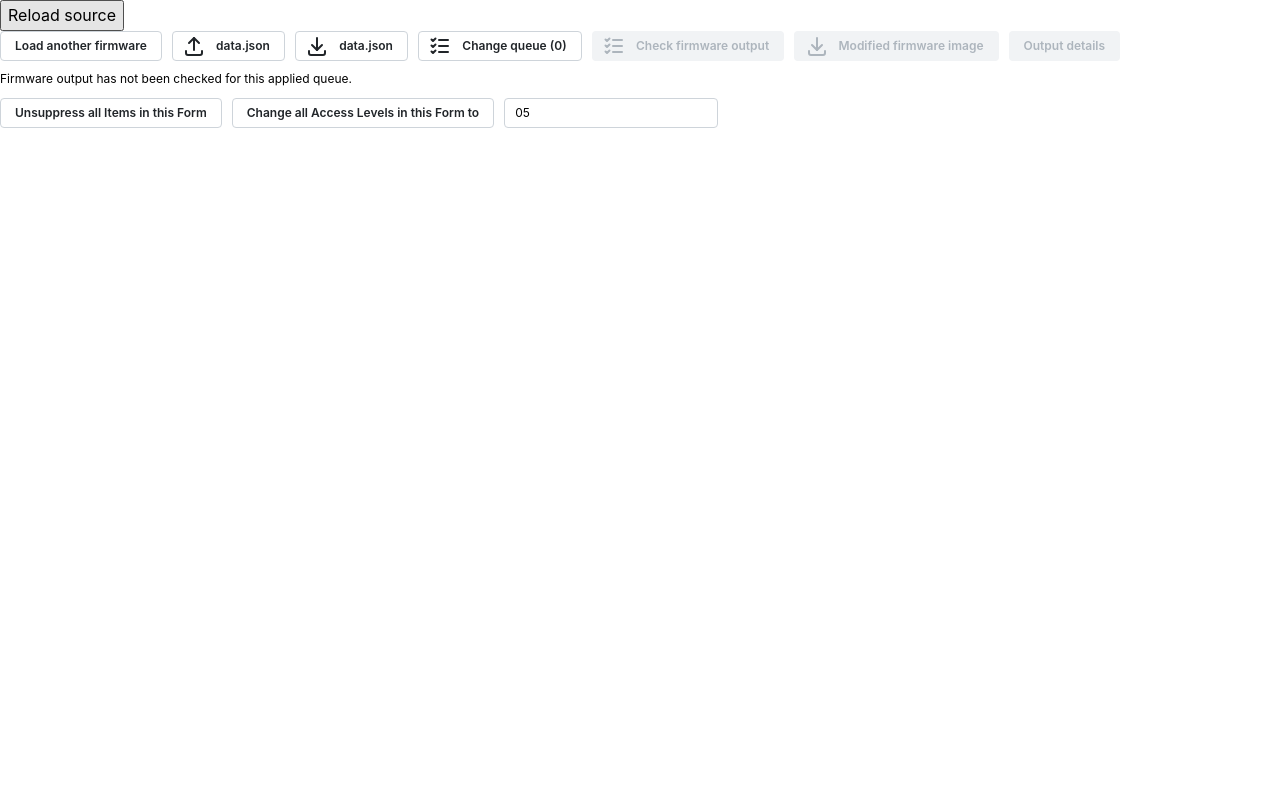
Test: AMI complete-image user flow (synthetic integration) › shows allocation failure without downloading and permits a successful retry
Step 1. Click the button "Unsuppress all Items in this Form" → (111, 113), box [0,98,222,128]
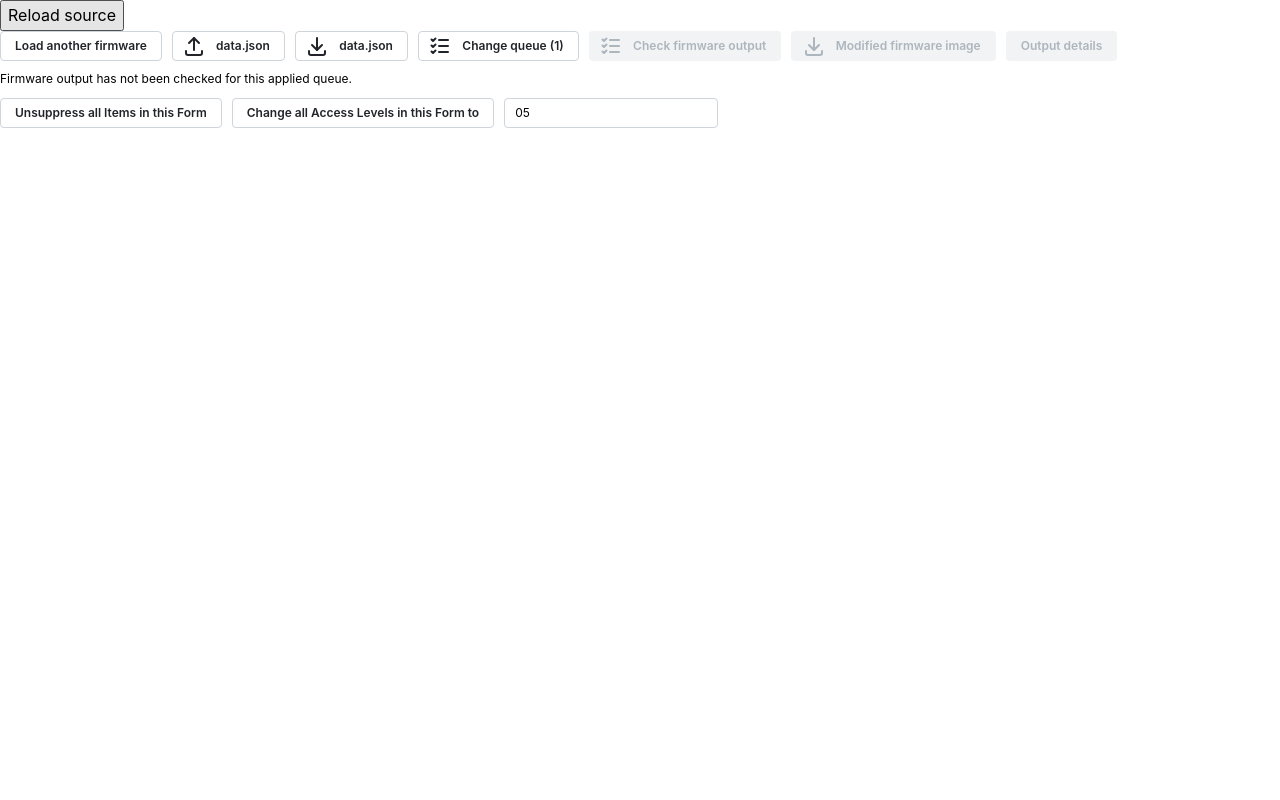
Check: the button "Check firmware output" is disabled, box [589,31,781,61]
Step 2. Click the button "Change queue (1)" → (498, 46), box [418,31,579,61]
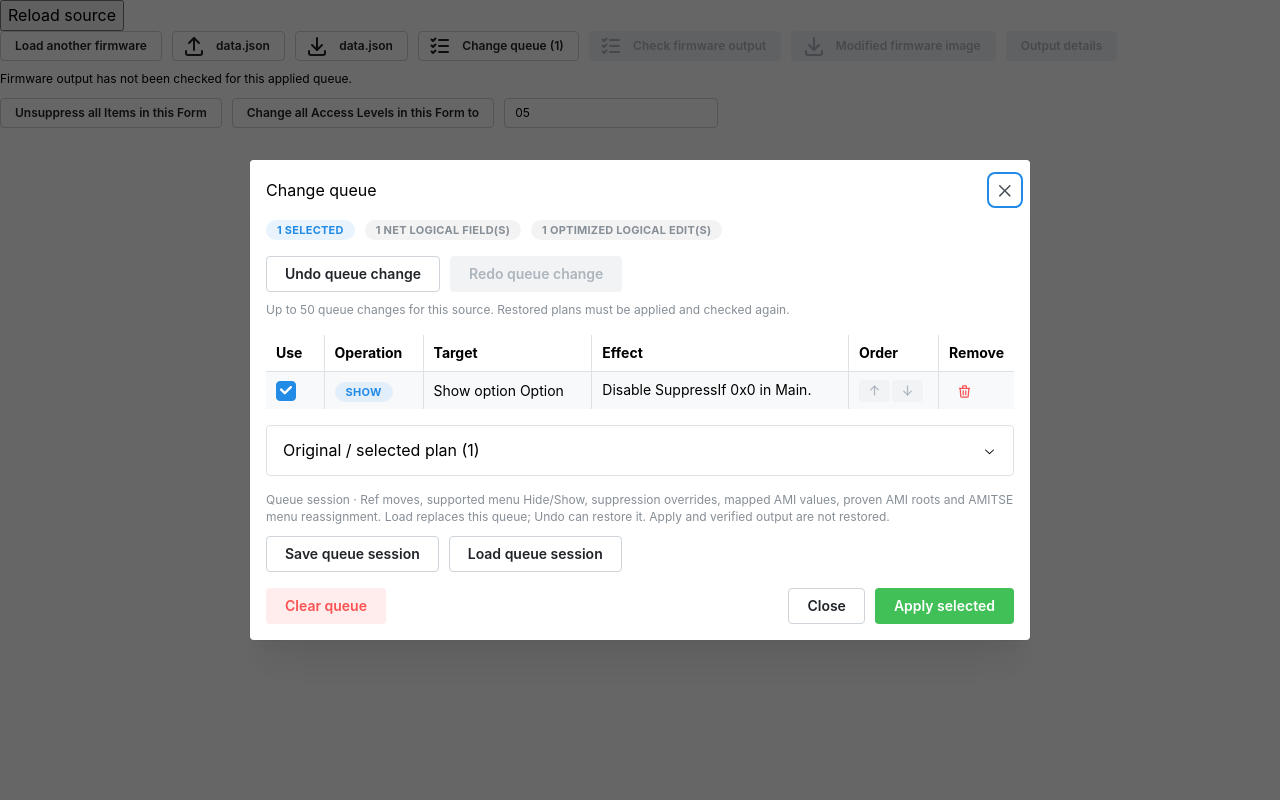
Step 3. Click the button "Apply selected" → (944, 606), box [875,588,1014,624]
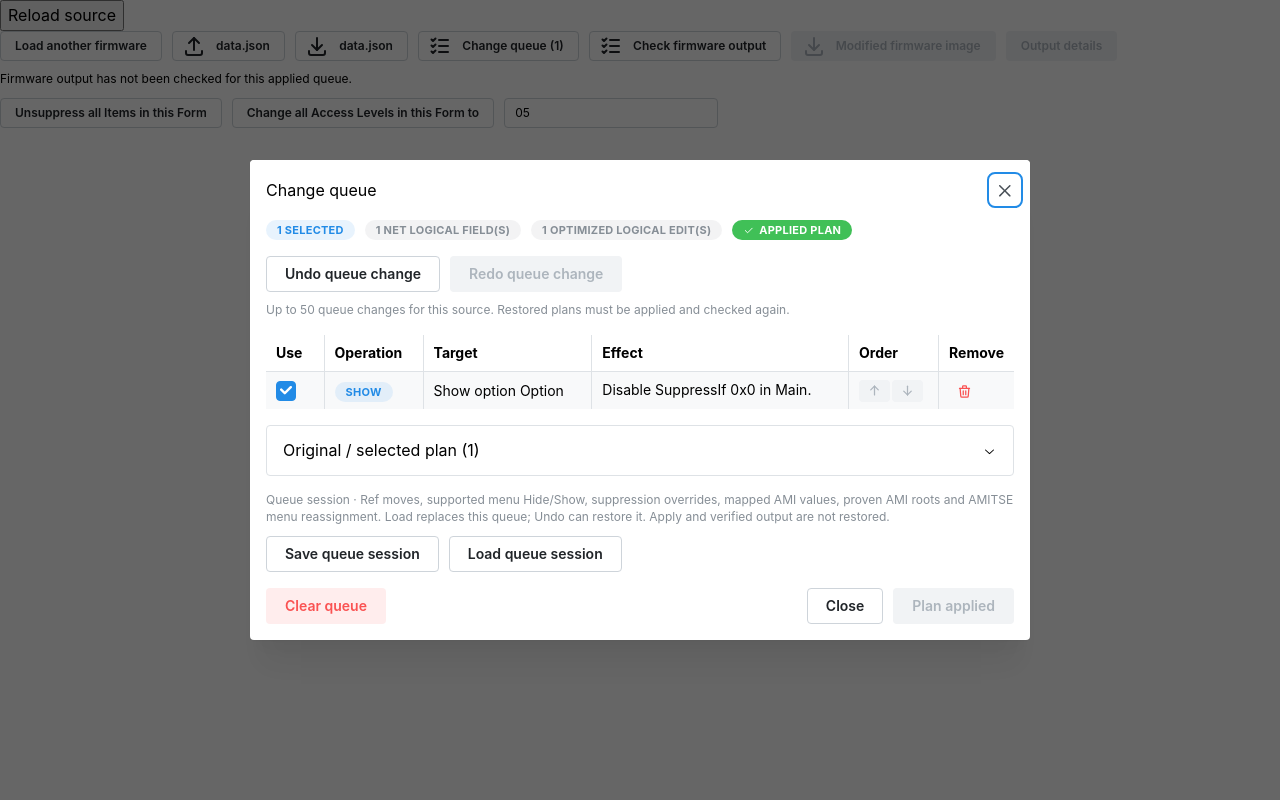
Step 4. Click the button "Close" → (845, 606), box [807,588,883,624]
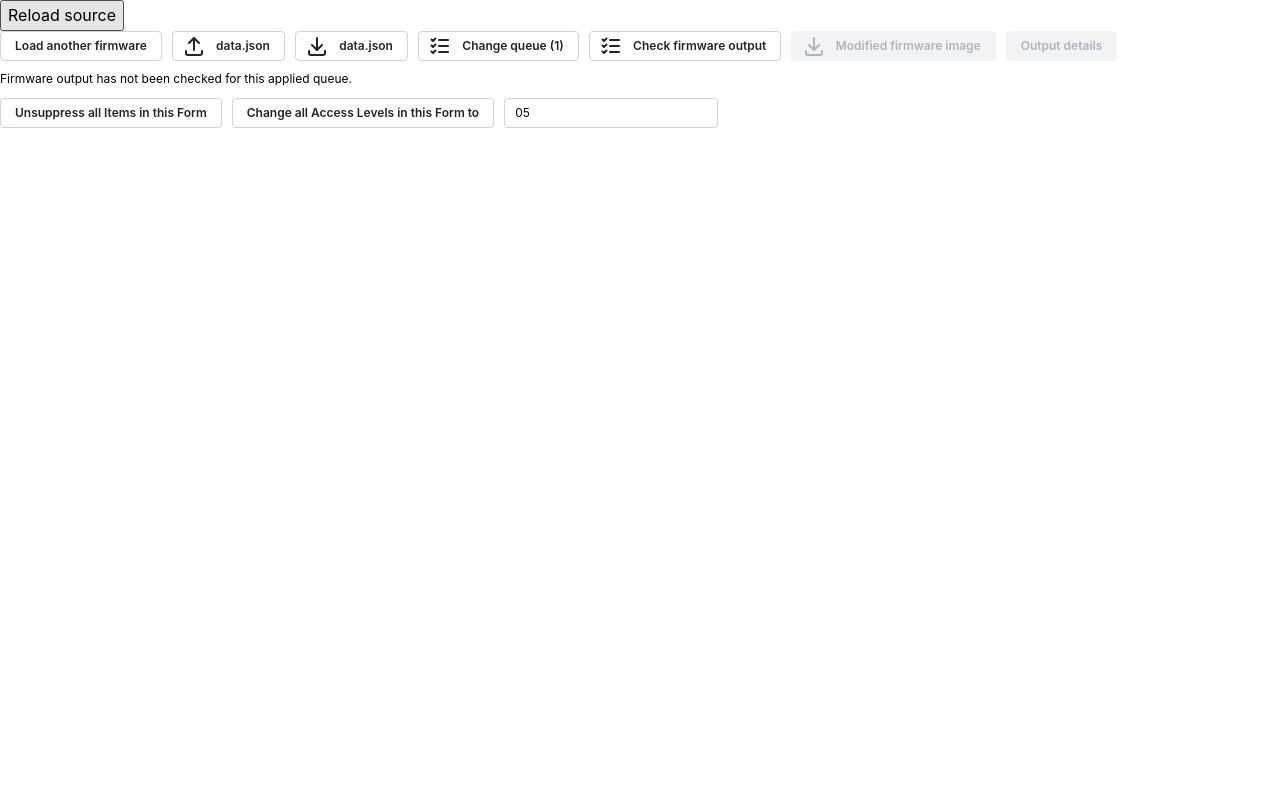
Step 5. Click the button "Check firmware output" → (685, 46), box [589,31,781,61]
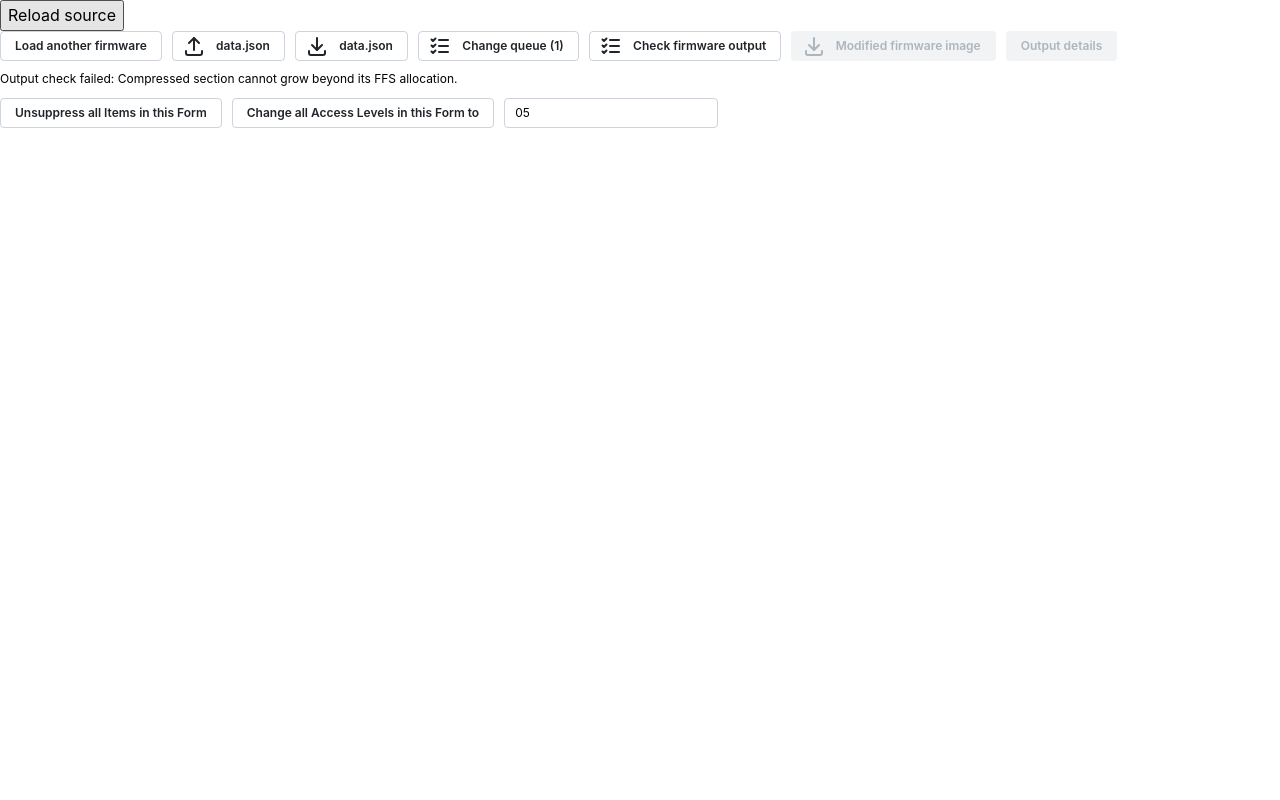
Check: the button "Modified firmware image" is disabled, box [791,31,996,61]
Check: the text "Output check failed: Compressed section cannot grow beyond its FFS allocation." is shown, box [0,71,458,88]
Step 6. Click the button "Check firmware output" → (685, 46), box [589,31,781,61]
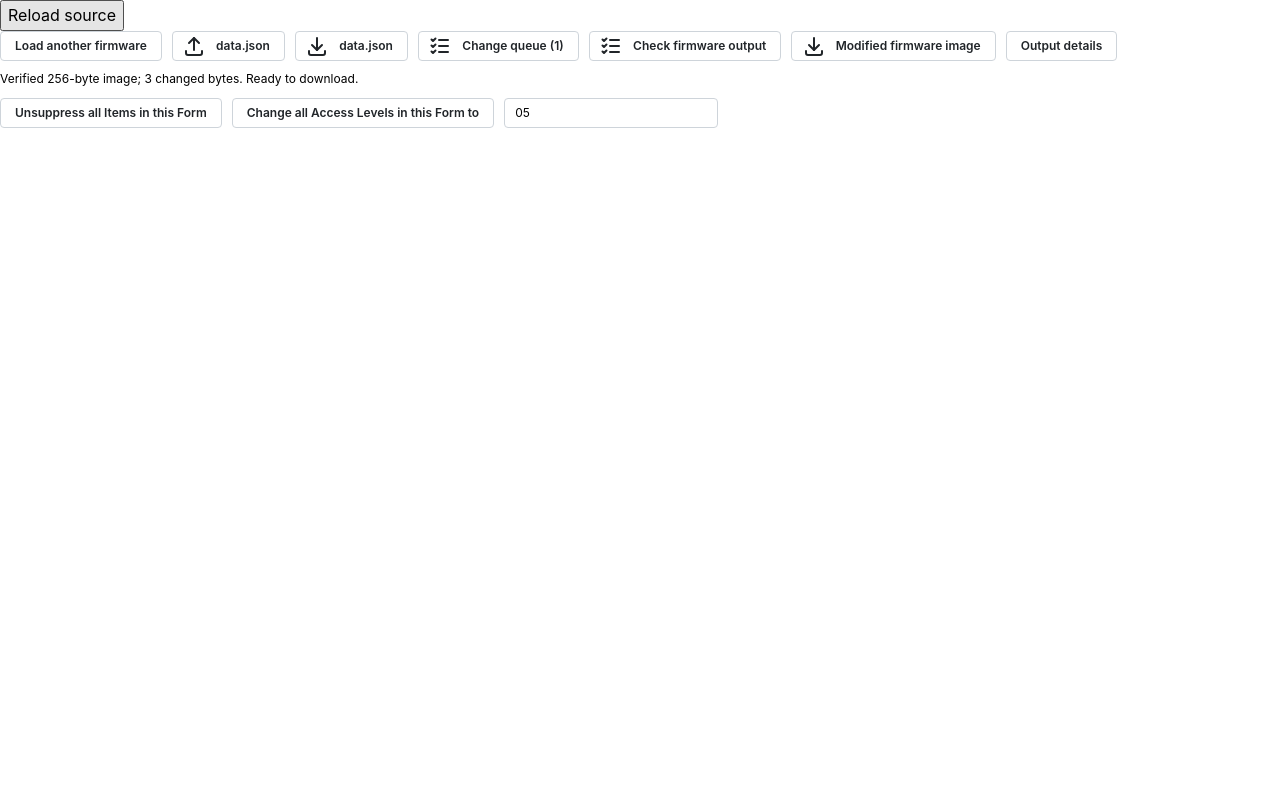
Check: the button "Modified firmware image" is enabled, box [791,31,996,61]
